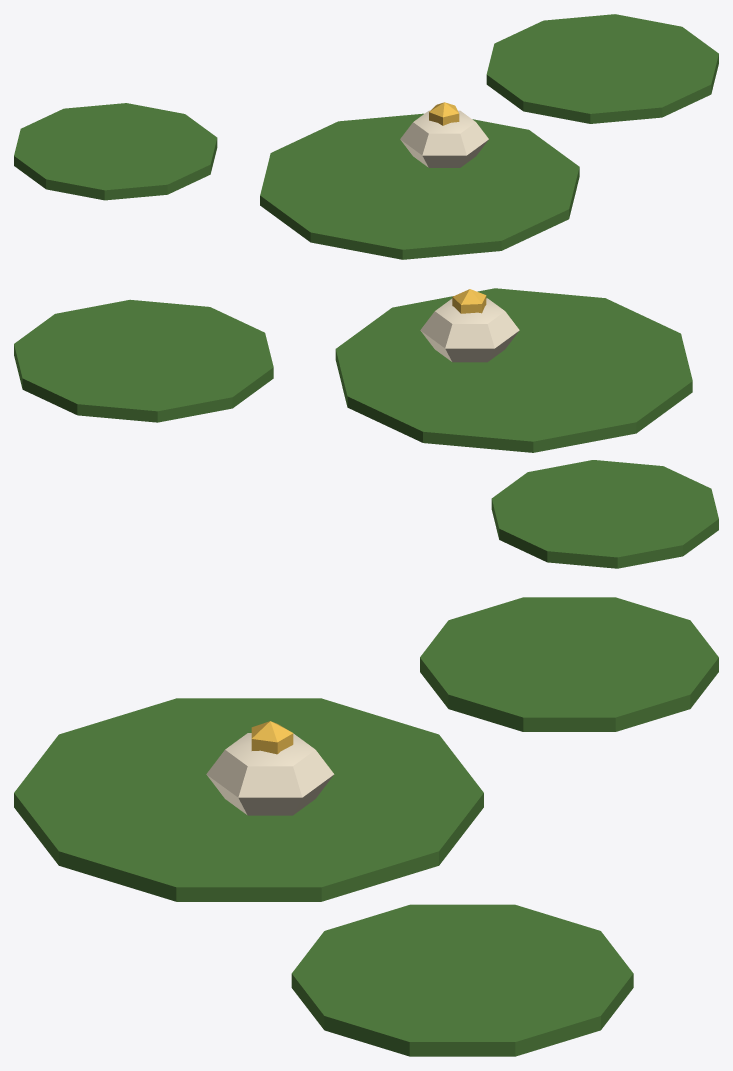
The model's file is PR_Nature_Nilufer.fbx.
3 views of the same model, one above another, from view 1: azimuth 30°, elevation 25°; view 2: azimuth 150°, elevation 25°; view 3: azimuth 270°, elevation 25° (orthographic). The views are drawn at different scales.
Visible parts, largest first — view 1: PR_Nature_Nilufer; view 2: PR_Nature_Nilufer; view 3: PR_Nature_Nilufer.
Boxes of the visible parts, <box> form: PR_Nature_Nilufer: <box>14,14,718,259</box>; PR_Nature_Nilufer: <box>14,288,718,568</box>; PR_Nature_Nilufer: <box>14,597,718,1056</box>.
Size of the model in its own units: 0.9853 by 0.1125 by 0.66.
